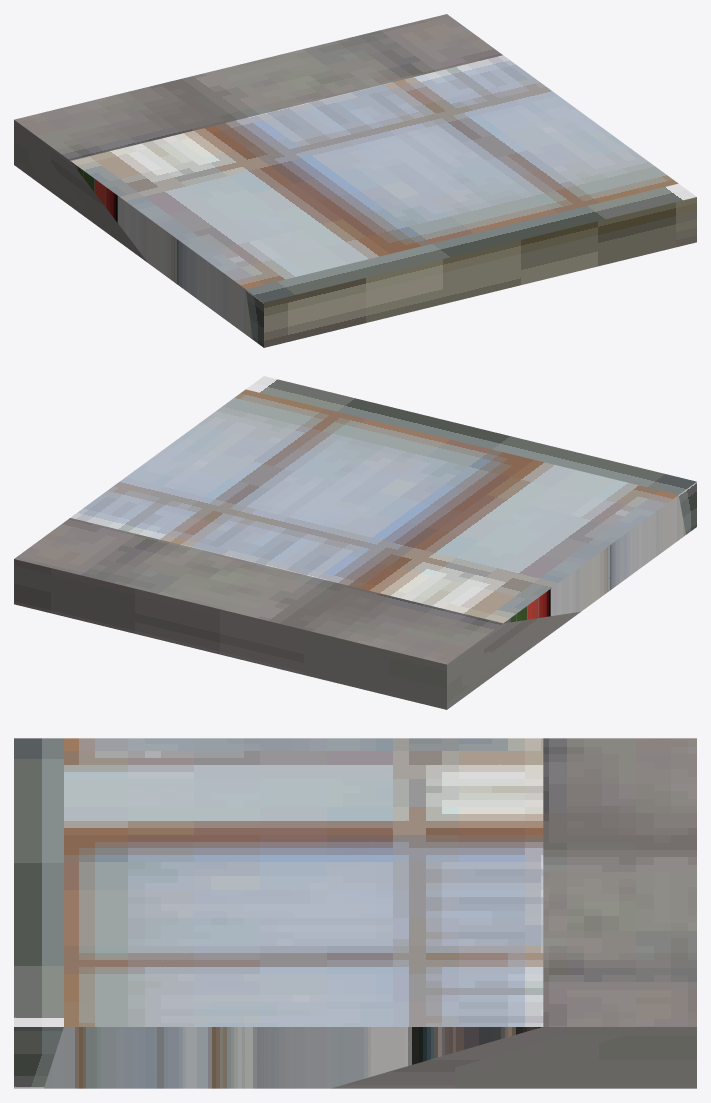
Rendered from 088_seina2.gltf.
3 views of the same model, one above another, from view 1: azimuth 30°, elevation 25°; view 2: azimuth 150°, elevation 25°; view 3: azimuth 270°, elevation 25° (orthographic). The views are drawn at different scales.
Parts seen in each view (by area): view 1: seina2; view 2: seina2; view 3: seina2.
Boxes of the visible parts, left/top/right/bottom form: seina2: left=14, top=14, right=696, bottom=347; seina2: left=14, top=376, right=696, bottom=709; seina2: left=14, top=738, right=696, bottom=1088.
Bounding box in the file's own units: 10 × 1 × 10.
Materials: 1 (1 with a texture image).
